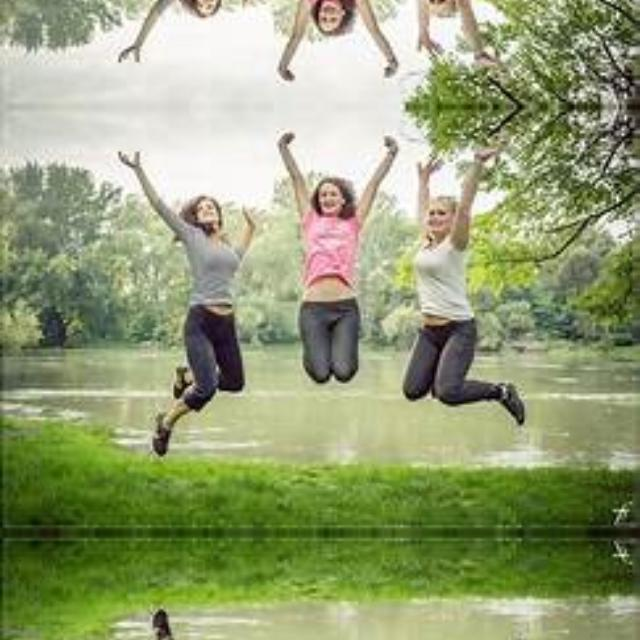person: (124, 154, 278, 442), (281, 126, 397, 410), (405, 166, 517, 440), (281, 0, 397, 86), (124, 0, 278, 58), (405, 0, 517, 46), (124, 622, 278, 640), (405, 625, 517, 640)
